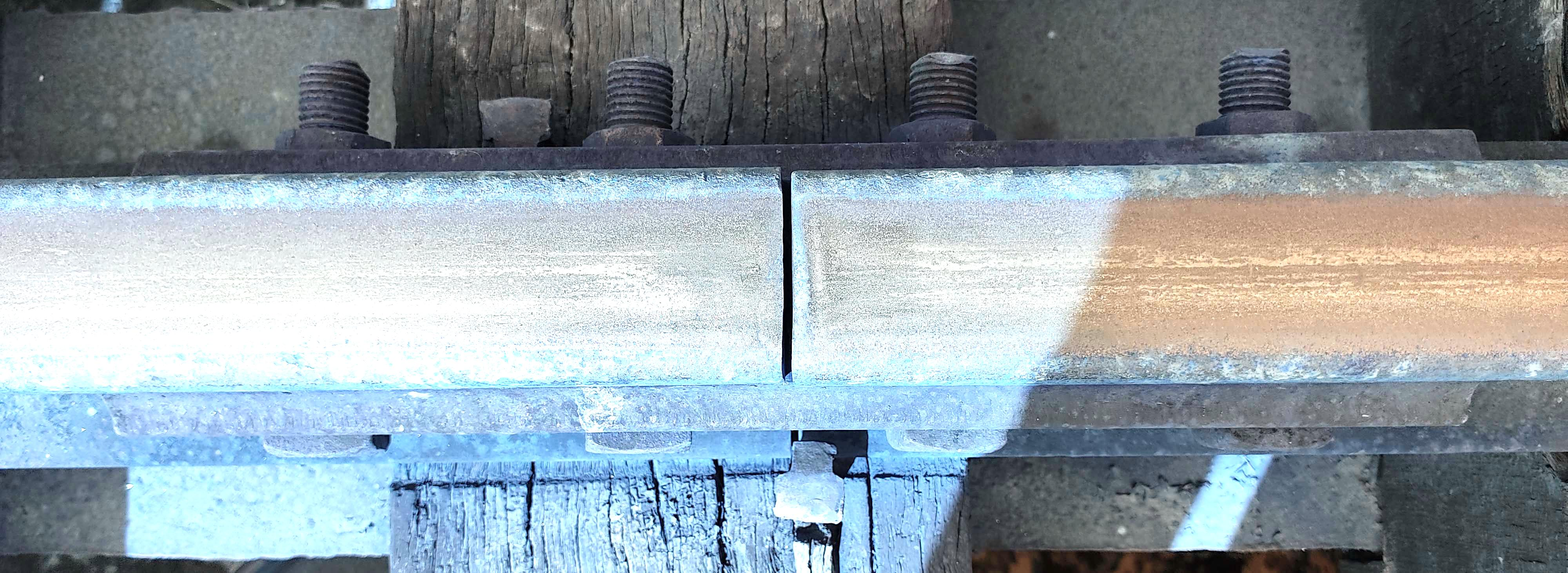duan lie: (757, 156, 808, 405)
